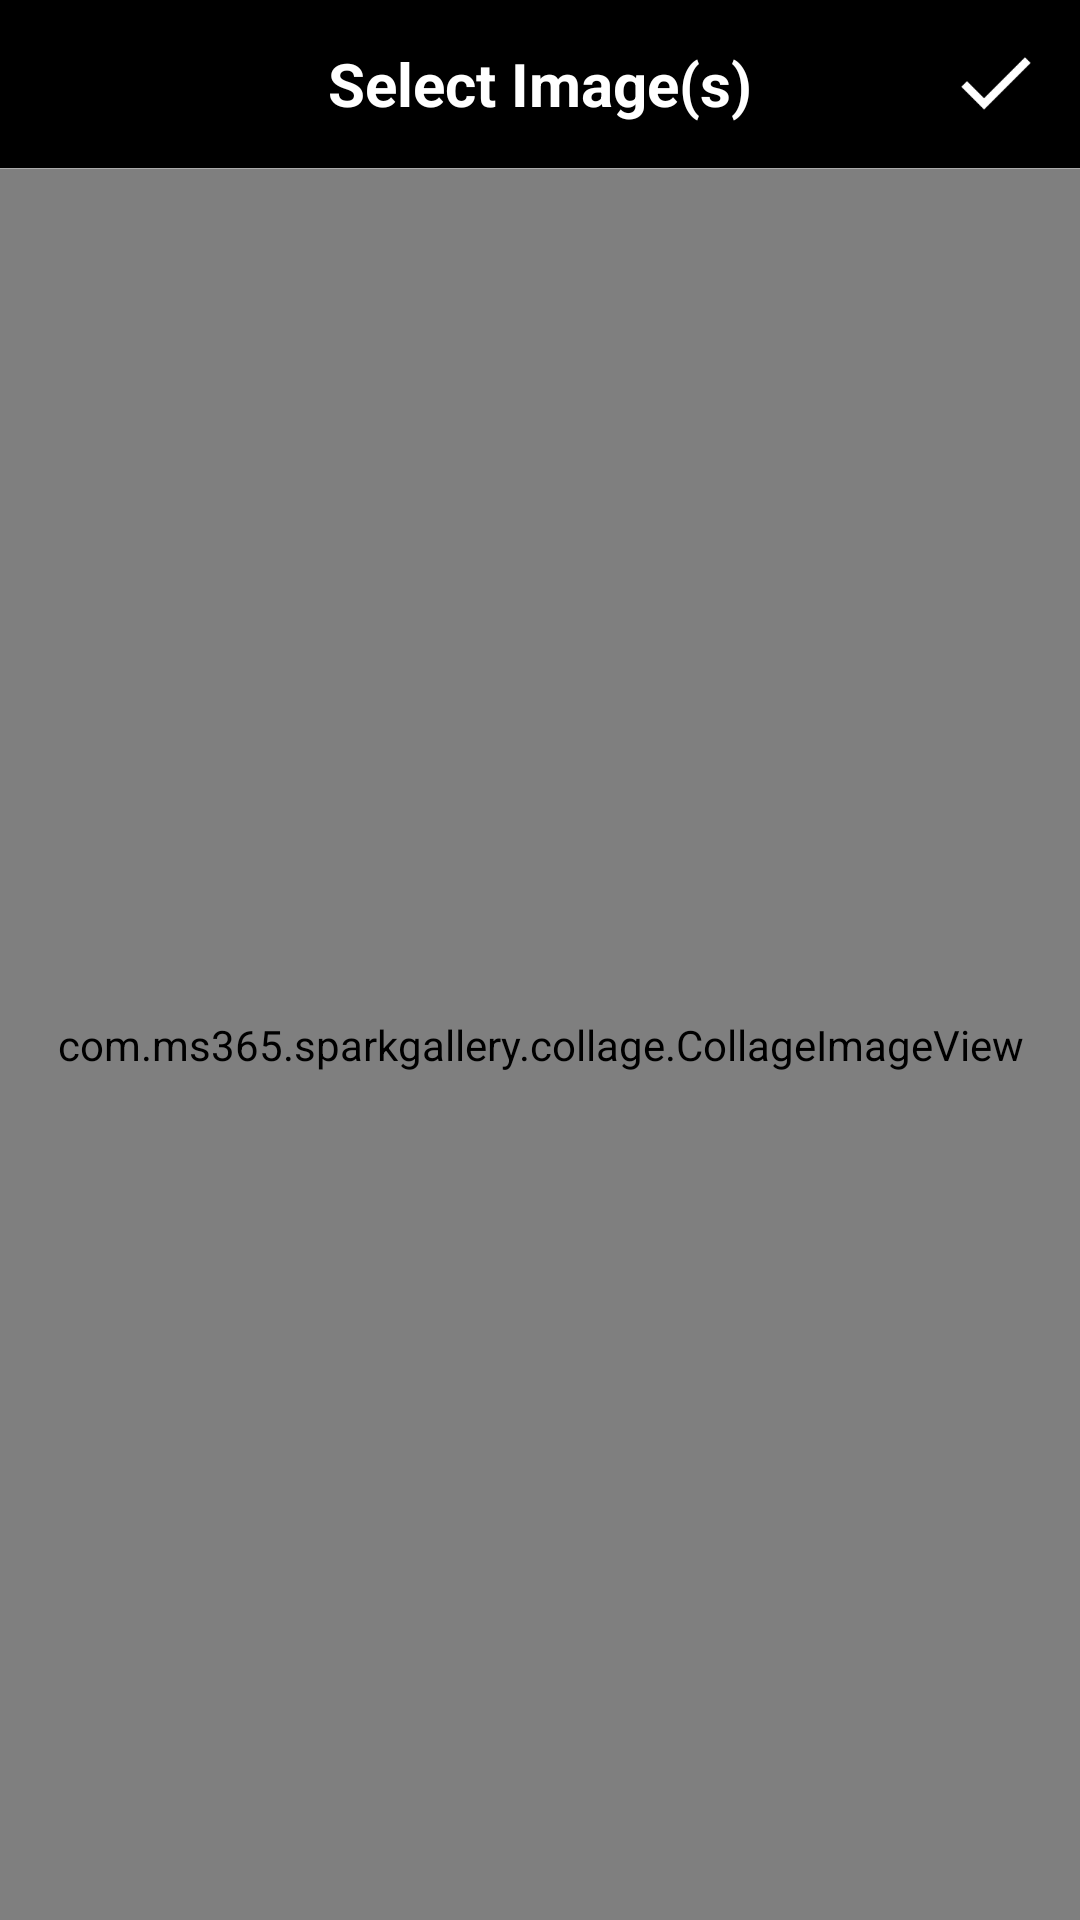

Locate icon controls on the screen. Image size 1080w x 1920h, boxes as {"x1": x1, "y1": y1, "x2": x2, "y2": y2}.
accept: {"x1": 961, "y1": 57, "x2": 1031, "y2": 110}
